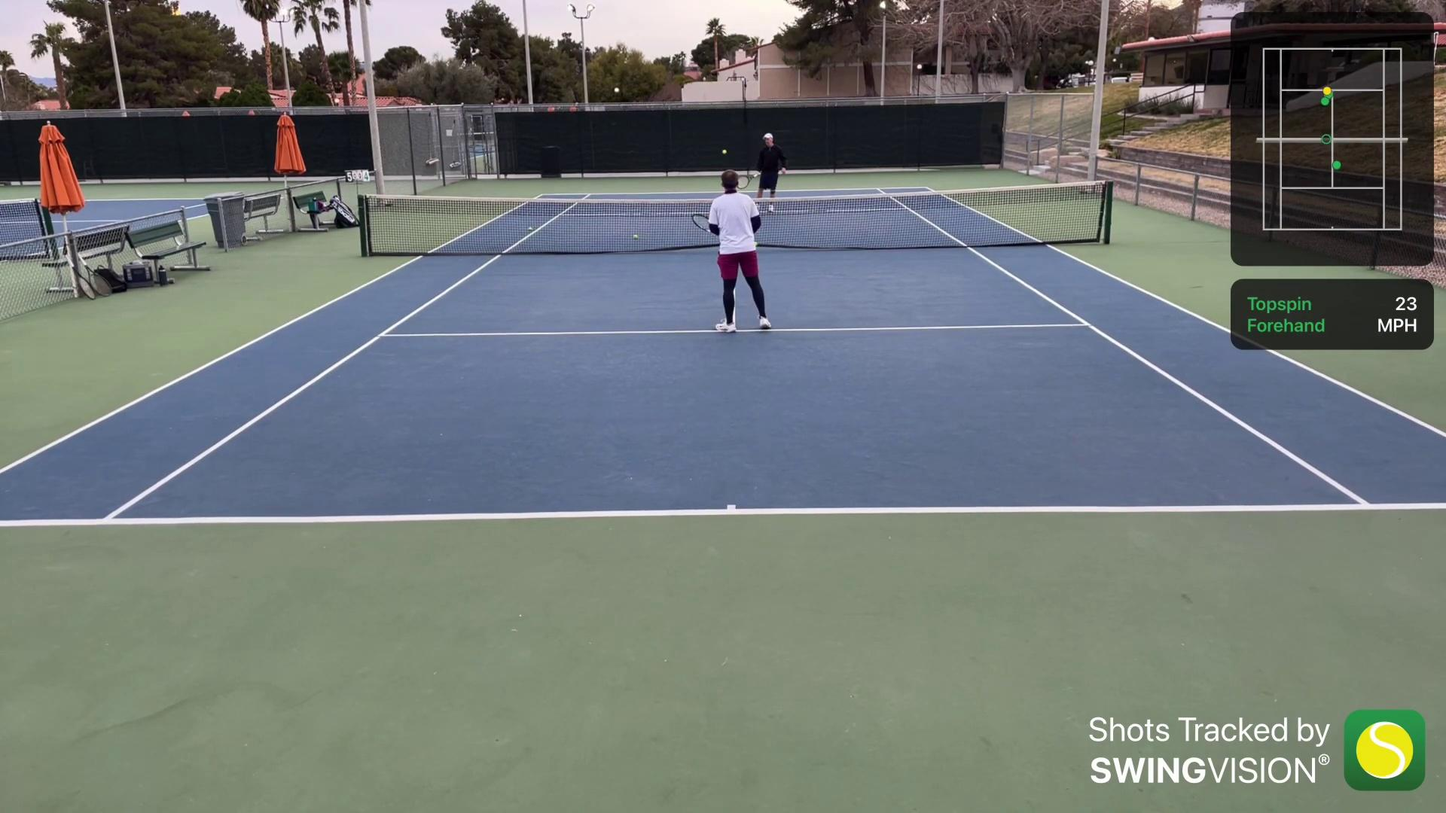ball: (630, 233, 639, 241), (721, 149, 727, 155), (754, 240, 759, 247), (528, 226, 533, 231)
